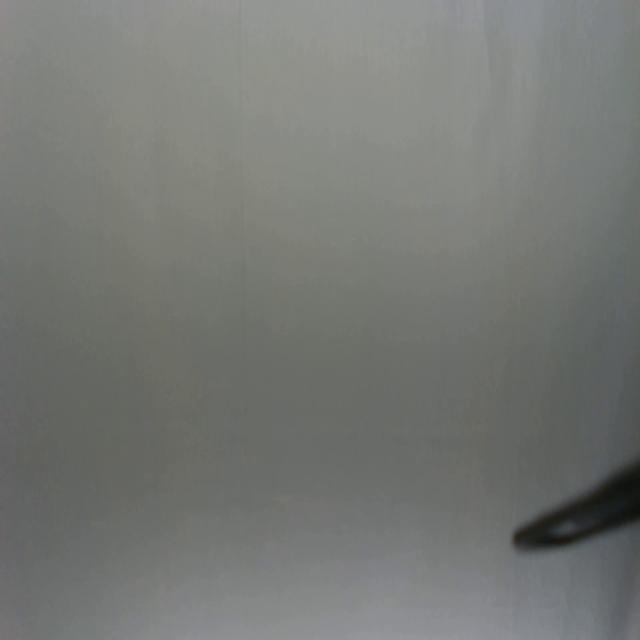crease: (238, 2, 250, 458)
